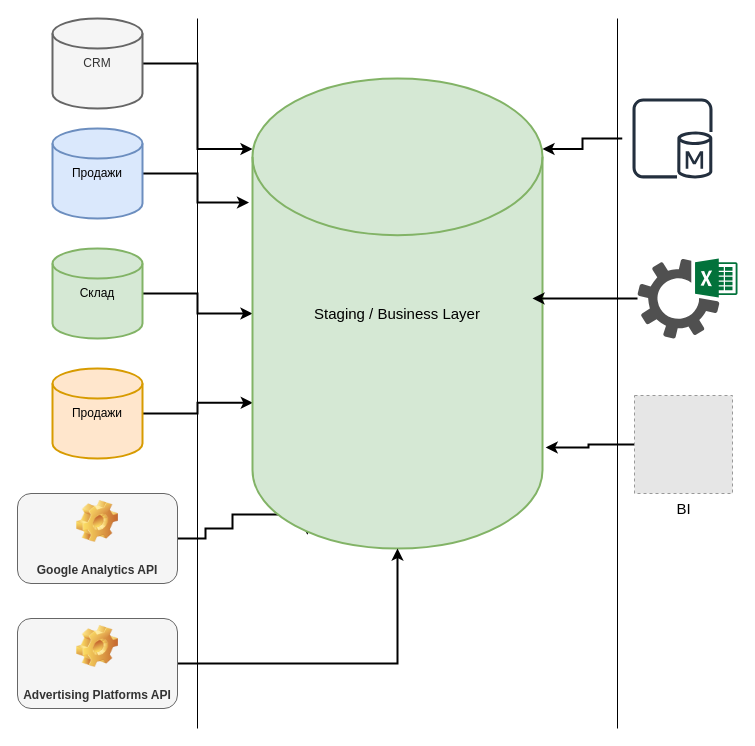
The diagram is 755 pixels wide and 746 high, and some of its shapes have lost their labels. Grey dashed boxes stand in for pictures. The shapes that lost their labels are listed below. From the top down, each one's box as (x1, y1, x2, y2) in pixels, then its label:
(622, 88, 722, 188): SQL
(637, 258, 737, 338): Excel
